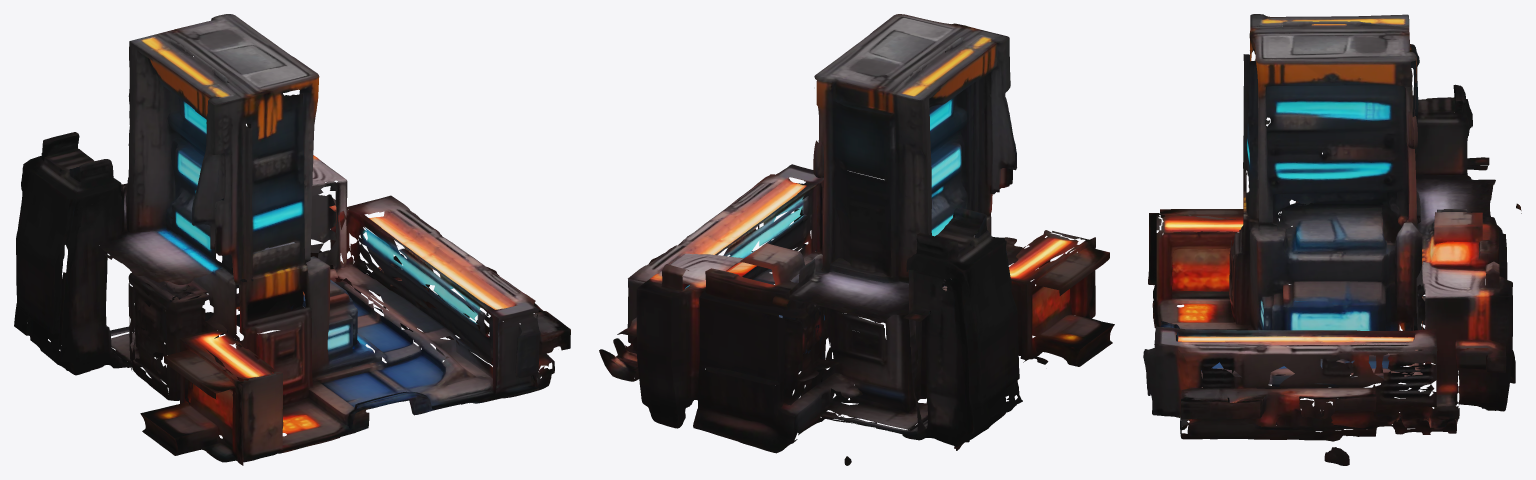
Rendered from arsenal.glb.
3 views of the same model, side by side, from view 1: azimuth 30°, elevation 25°; view 2: azimuth 150°, elevation 25°; view 3: azimuth 270°, elevation 25° (orthographic). The views are drawn at different scales.
Visible parts, largest first — view 1: geometry_0.932; view 2: geometry_0.932; view 3: geometry_0.932.
Boxes of the visible parts, x1,y1,x2,y2 form: geometry_0.932: (14,14,570,465); geometry_0.932: (599,14,1114,465); geometry_0.932: (1143,14,1521,465).
Bounding box in the file's own units: 2.94 × 2.42 × 2.61.
1 material, 1 textured.
